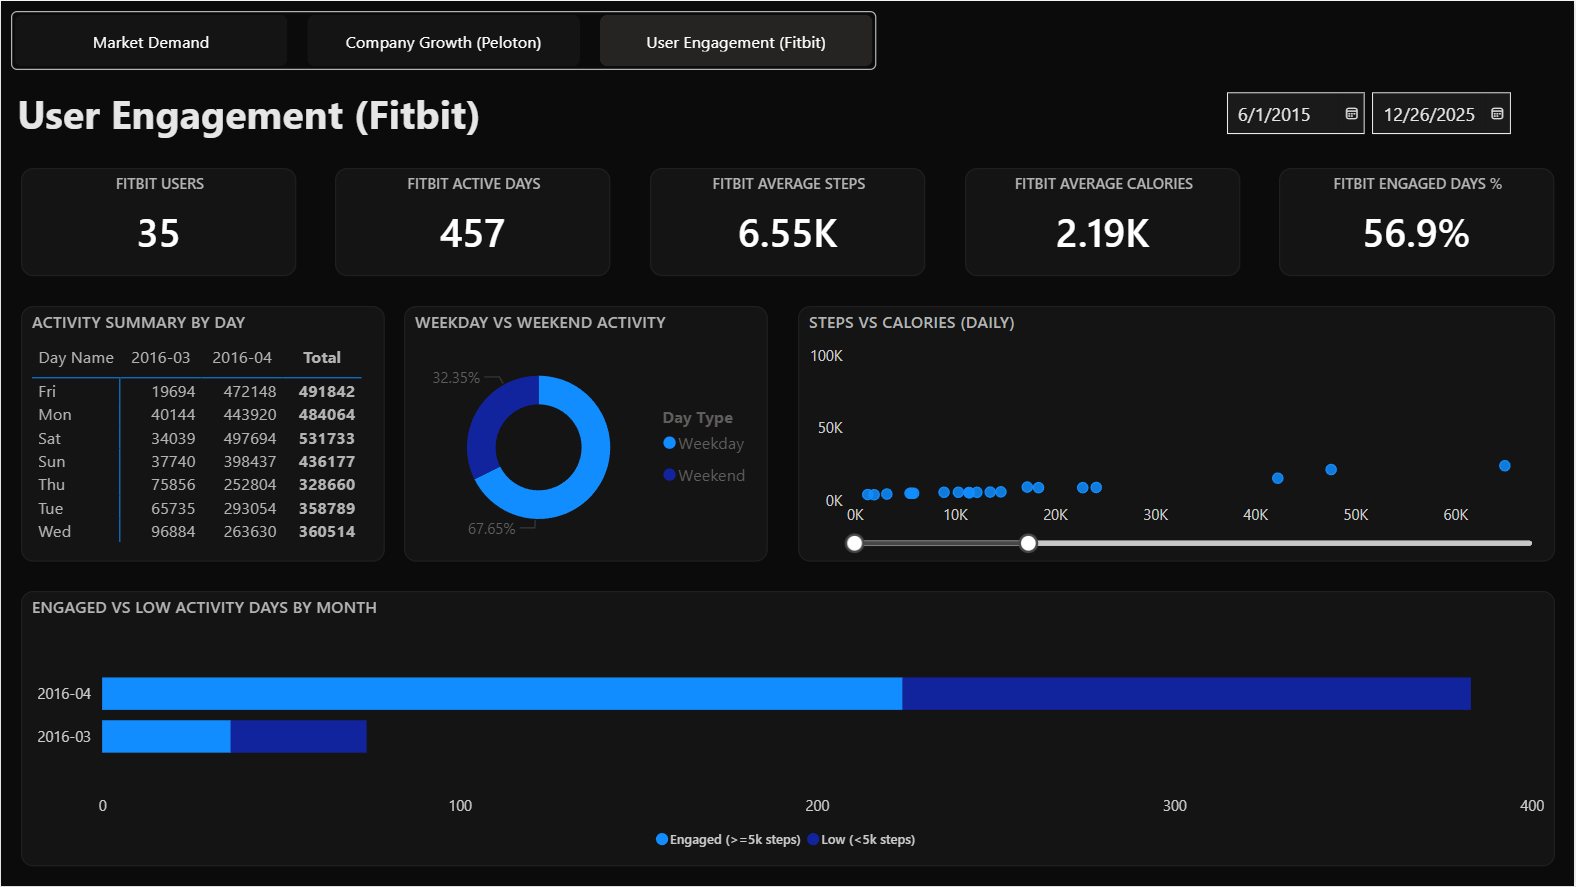

Layout of this report page (visuals, bound fields, positions):
{"tool":"powerbi","page":{"name":"User Engagement (Fitbit)","canvas":[1280,720],"ordinal":2},"visuals":[{"type":"pageNavigator","box":[8,8,704,48],"z":0},{"type":"textbox","box":[8,64,784,56],"z":1000},{"type":"card","title":"FITBIT USERS","fields":{"Values":["Date.Fitbit Users"]},"box":[16,136,224,88],"z":2000},{"type":"slicer","fields":{"Values":["Date.Date"]},"box":[984,64,256,56],"z":3000},{"type":"card","title":"FITBIT ACTIVE DAYS","fields":{"Values":["Date.Fitbit Active Days"]},"box":[272,136,224,88],"z":4000},{"type":"card","title":"FITBIT AVERAGE STEPS","fields":{"Values":["Date.Fitbit Avg Steps"]},"box":[528,136,224,88],"z":5000},{"type":"card","title":"FITBIT AVERAGE CALORIES","fields":{"Values":["Date.Fitbit Avg Calories"]},"box":[784,136,224,88],"z":6000},{"type":"card","title":"FITBIT ENGAGED DAYS %","fields":{"Values":["Date.Fitbit Engaged Day %"]},"box":[1040,136,224,88],"z":7000},{"type":"pivotTable","title":"ACTIVITY SUMMARY BY DAY","fields":{"Rows":["fitbit_daily_activity.Day Name"],"Columns":["fitbit_daily_activity.Month"],"Values":["Sum(fitbit_daily_activity.TotalSteps)"]},"box":[16,248,296,208],"z":8000},{"type":"scatterChart","title":"STEPS VS CALORIES (DAILY)","fields":{"X":["Sum(fitbit_daily_activity.TotalSteps)"],"Y":["Sum(fitbit_daily_activity.Calories)"],"Category":["fitbit_daily_activity.ActivityDate"]},"box":[648,248,616,208],"z":9000},{"type":"barChart","title":"ENGAGED VS LOW ACTIVITY DAYS BY MONTH","fields":{"Category":["fitbit_daily_activity.Month"],"Series":["fitbit_daily_activity.Steps Bucket"],"Y":["CountNonNull(fitbit_daily_activity.TotalSteps)"]},"box":[16,480,1248,224],"z":10000},{"type":"donutChart","title":"WEEKDAY VS WEEKEND ACTIVITY","fields":{"Category":["fitbit_daily_activity.Day Type"],"Y":["Sum(fitbit_daily_activity.TotalSteps)"]},"box":[328,248,296,208],"z":11000}]}

Visuals, with their boxes in screenshot pixels (x1, y1, x2, y2), scaled from the page's 1280x720 canvas onto the 1576x887 screenshot:
pageNavigator: bbox(10, 10, 877, 69)
textbox: bbox(10, 79, 975, 148)
"FITBIT USERS" card: bbox(20, 168, 296, 276)
slicer - Date.Date: bbox(1212, 79, 1527, 148)
"FITBIT ACTIVE DAYS" card: bbox(335, 168, 611, 276)
"FITBIT AVERAGE STEPS" card: bbox(650, 168, 926, 276)
"FITBIT AVERAGE CALORIES" card: bbox(965, 168, 1241, 276)
"FITBIT ENGAGED DAYS %" card: bbox(1280, 168, 1556, 276)
"ACTIVITY SUMMARY BY DAY" pivotTable: bbox(20, 306, 384, 562)
"STEPS VS CALORIES (DAILY)" scatterChart: bbox(798, 306, 1556, 562)
"ENGAGED VS LOW ACTIVITY DAYS BY MONTH" barChart: bbox(20, 591, 1556, 867)
"WEEKDAY VS WEEKEND ACTIVITY" donutChart: bbox(404, 306, 768, 562)
